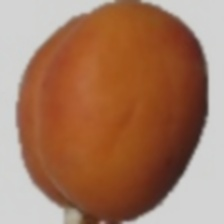apricot: (27, 33, 195, 196)
